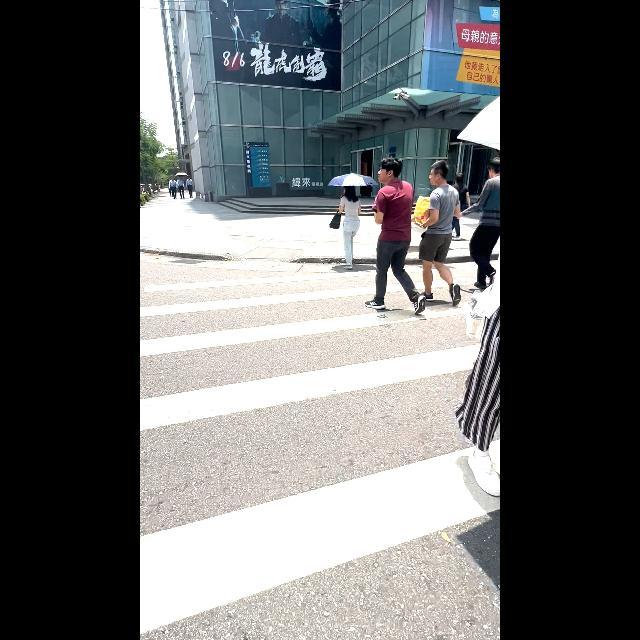sidewalk: (141, 271, 500, 632)
